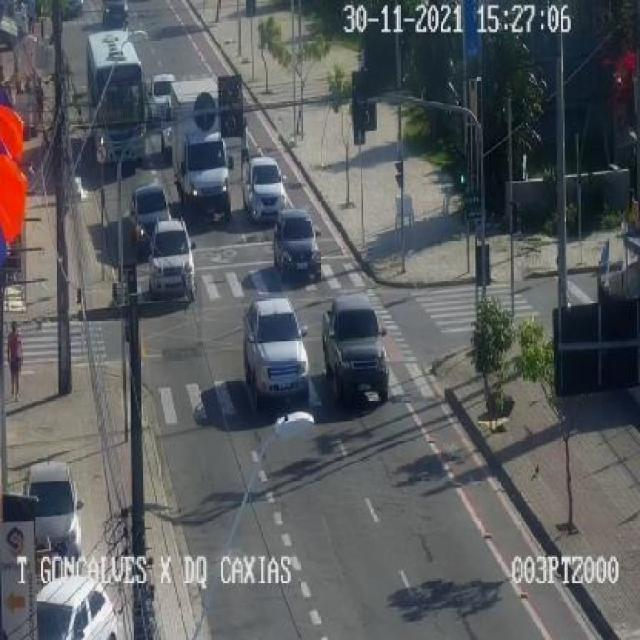Bus: (91, 18, 148, 166)
Car: (307, 292, 402, 426), (5, 435, 89, 564), (243, 297, 309, 416), (29, 568, 126, 640), (132, 225, 205, 308), (267, 211, 320, 278), (244, 154, 293, 220), (128, 187, 172, 247), (148, 63, 180, 125)
Truck: (171, 85, 230, 221)
